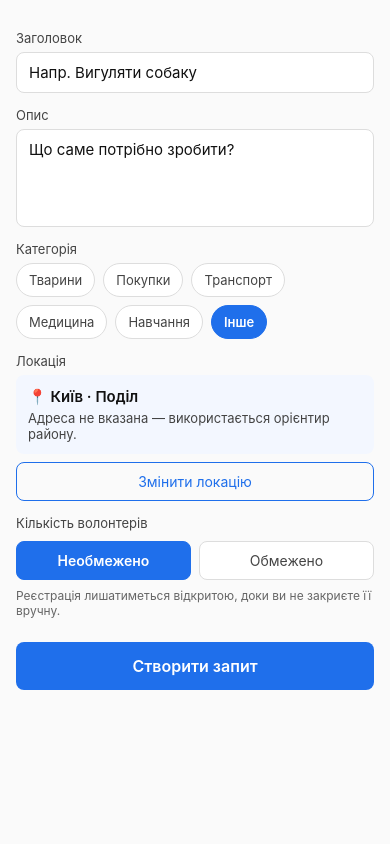
Phase 3 — CreateRequestScreen no longer shows "Демо-локація" › LP6: limited mode reveals the slot count input
Click the element with test id "create-request-slots-mode-limited" at [286, 560], box x1=199 y1=541 x2=374 y2=580
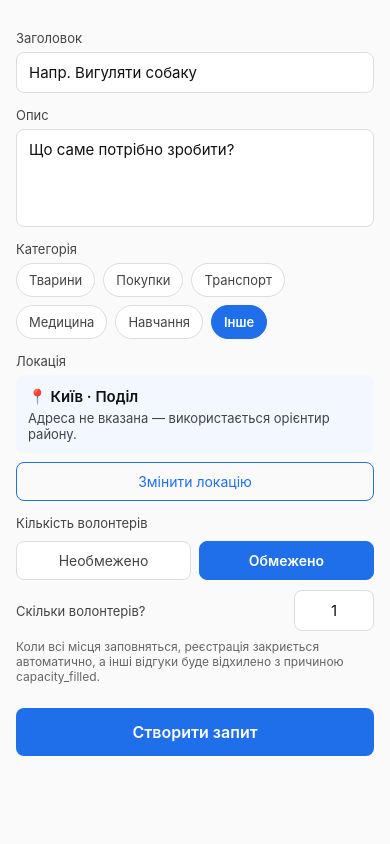
Expected: the field with test id "create-request-slots-count" is shown, x1=294 y1=590 x2=374 y2=631
